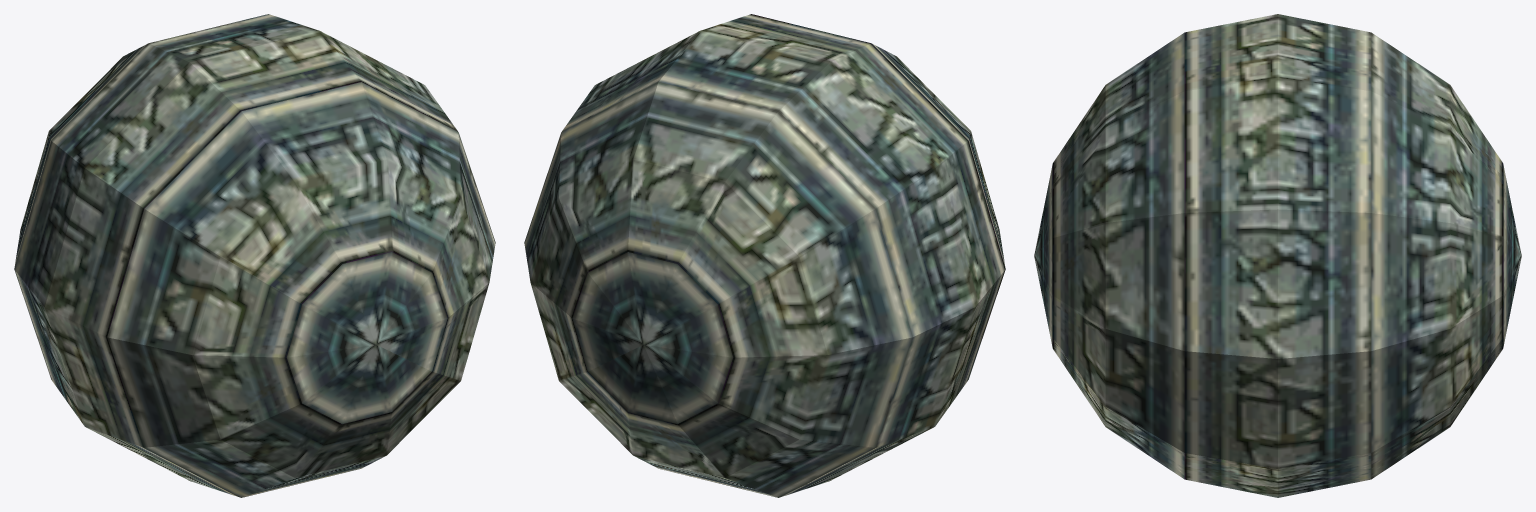
File: Mystic Mansion - Switch Ball.obj
3 views of the same model, side by side, from view 1: azimuth 30°, elevation 25°; view 2: azimuth 150°, elevation 25°; view 3: azimuth 270°, elevation 25° (orthographic).
Bounding box in the file's own units: 10 × 9.51 × 10.
1 material, 1 textured.
